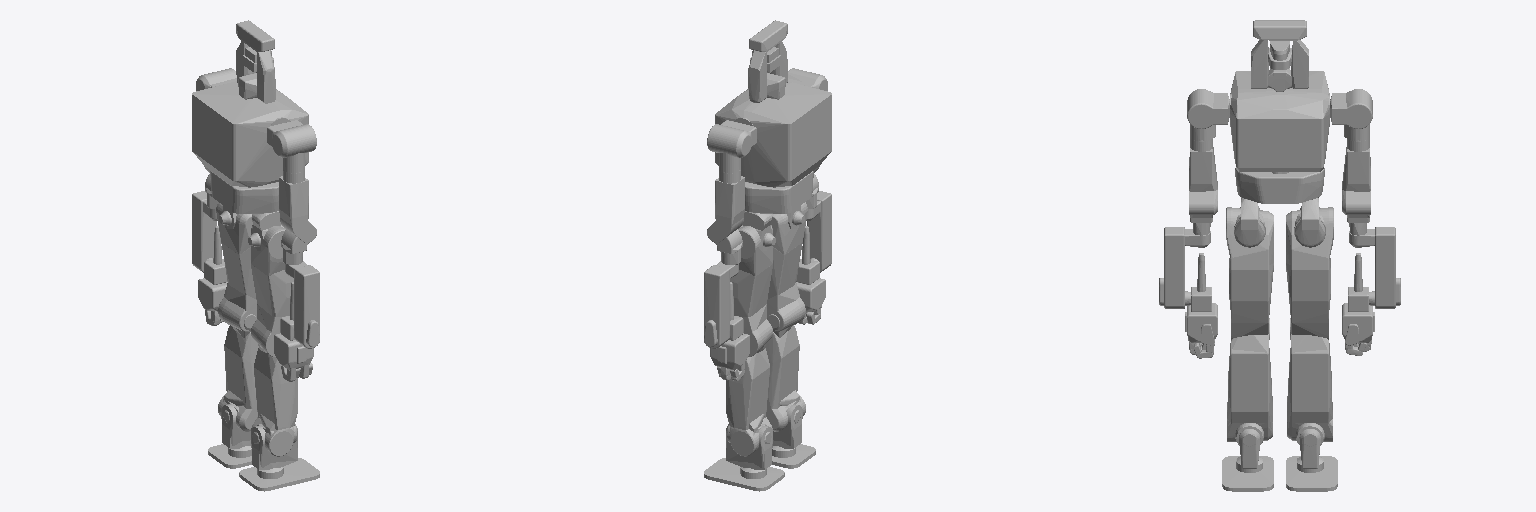
--- What the picture shows (computed from the rendered views, not written in the file) ---
Views: 3 orthographic renders of the robot side by side, from view 1: azimuth 30°, elevation 25°; view 2: azimuth 150°, elevation 25°; view 3: azimuth 270°, elevation 25°.
Robot: drchubo-v3 — 56 links, 55 joints (51 revolute, 4 fixed); root link Body_Torso; default pose: every joint at zero.
Visible links, largest first — view 1: Body_Torso, Body_RHP, Body_LHP, Body_RKP, Body_LKP, Body_RAR, Body_RWY, Body_NK2, Body_RSY, Body_TSY, Body_LAR, Body_LWY (+7 smaller); view 2: Body_Torso, Body_LHP, Body_RHP, Body_LKP, Body_RKP, Body_LAR, Body_LWY, Body_NK2, Body_LSY, Body_TSY, Body_RAR, Body_RWY (+7 smaller); view 3: Body_Torso, Body_RHP, Body_LHP, Body_RKP, Body_LKP, Body_NK2, Body_TSY, Body_RAR, Body_LAR, Body_RWY, Body_LWY, Body_RSY (+10 smaller).
Link boxes in pixels (<box>): Body_Torso: <box>192,81,308,187</box>; Body_RHP: <box>251,225,293,356</box>; Body_LHP: <box>216,202,256,331</box>; Body_RKP: <box>251,344,297,456</box>; Body_LKP: <box>218,314,258,431</box>; Body_RAR: <box>239,424,319,491</box>; Body_RWY: <box>285,261,319,348</box>; Body_NK2: <box>236,20,275,103</box>; Body_RSY: <box>279,170,316,242</box>; Body_TSY: <box>210,171,278,213</box>; Body_LAR: <box>208,404,251,468</box>; Body_LWY: <box>192,191,217,272</box>; Body_Torso: <box>715,81,831,187</box>; Body_LHP: <box>730,225,772,356</box>; Body_RHP: <box>767,202,807,331</box>; Body_LKP: <box>726,344,772,456</box>; Body_RKP: <box>765,314,805,431</box>; Body_LAR: <box>704,424,784,491</box>; Body_LWY: <box>704,261,738,348</box>; Body_NK2: <box>748,20,787,102</box>; Body_LSY: <box>707,170,744,242</box>; Body_TSY: <box>745,171,813,213</box>; Body_RAR: <box>772,404,815,468</box>; Body_RWY: <box>806,191,831,272</box>; Body_Torso: <box>1230,71,1329,173</box>; Body_RHP: <box>1226,207,1273,339</box>; Body_LHP: <box>1286,207,1333,339</box>; Body_RKP: <box>1227,318,1272,441</box>; Body_LKP: <box>1287,318,1332,441</box>; Body_NK2: <box>1251,20,1308,88</box>; Body_TSY: <box>1235,168,1324,203</box>; Body_RAR: <box>1222,429,1273,491</box>; Body_LAR: <box>1286,429,1337,491</box>; Body_RWY: <box>1159,227,1210,308</box>; Body_LWY: <box>1349,227,1400,308</box>; Body_RSY: <box>1189,138,1217,214</box>.
Size in the robot's own frame: 0.291 by 0.707 by 1.45 metres.
Meshes: 37 distinct files referenced, 52 mesh visuals loaded (37 binary STL).

The robot description file, URDF, robot "drchubo-v3":
<?xml version="1.0" ?>
<robot name="drchubo-v3">
    <link name="Body_Torso">
        <visual>
            <geometry>
                <mesh filename="meshes/convhull_Torso_merged.stl"/>
            </geometry>
            <origin rpy="0 0 0" xyz="0 0 0"/>
            <material name="">
                <color rgba="0.752941176471 0.752941176471 0.752941176471 1.0"/>
            </material>
        </visual>
        <collision>
            <geometry>
                <mesh filename="meshes/convhull_Torso_merged.stl"/>
            </geometry>
            <origin rpy="0 0 0" xyz="0 0 0"/>
        </collision>
        <inertial>
            <mass value="12.0205278528"/>
            <inertia ixx="0.139304186385" ixy="3.94986545913e-06" ixz="-0.00823717402835" iyy="0.103349048038" iyz="-5.51332752869e-06" izz="0.138503173371"/>
            <origin rpy="0 0 0" xyz="-0.00653576137697 2.64726276972e-05 -0.0481158946001"/>
        </inertial>
    </link>
    <link name="Body_TSY">
        <visual>
            <geometry>
                <mesh filename="meshes/convhull_TSY_merged.stl"/>
            </geometry>
            <origin rpy="0 0 0" xyz="0 0 0"/>
            <material name="">
                <color rgba="0.752941176471 0.752941176471 0.752941176471 1.0"/>
            </material>
        </visual>
        <collision>
            <geometry>
                <mesh filename="meshes/convhull_TSY_merged.stl"/>
            </geometry>
            <origin rpy="0 0 0" xyz="0 0 0"/>
        </collision>
        <inertial>
            <mass value="4.83018847366"/>
            <inertia ixx="0.0242710547439" ixy="4.03308627246e-06" ixz="0.000107562017398" iyy="0.0103772739035" iyz="1.38922193141e-06" izz="0.0286360929382"/>
            <origin rpy="0 0 0" xyz="-0.0172313454531 7.7473414697e-06 -0.032639940662"/>
        </inertial>
    </link>
    <joint name="WST" type="revolute">
        <parent link="Body_Torso"/>
        <child link="Body_TSY"/>
        <origin rpy="0 0 0" xyz="-0.00099991 0 -0.2061"/>
        <axis xyz="0 0 1.0"/>
        <limit effort="25" lower="-1.06813521904" upper="1.06814778541" velocity="6.28318530718"/>
    </joint>
    <link name="Body_RHY">
        <visual>
            <geometry>
                <mesh filename="meshes/convhull_RHY_merged.stl"/>
            </geometry>
            <origin rpy="0 0 0" xyz="0 0 0"/>
            <material name="">
                <color rgba="0.752941176471 0.752941176471 0.752941176471 1.0"/>
            </material>
        </visual>
        <collision>
            <geometry>
                <mesh filename="meshes/convhull_RHY_merged.stl"/>
            </geometry>
            <origin rpy="0 0 0" xyz="0 0 0"/>
        </collision>
        <inertial>
            <mass value="1.39676631505"/>
            <inertia ixx="0.00288796936083" ixy="9.31467192308e-07" ixz="-0.00107856005839" iyy="0.00475787075044" iyz="-1.27885368145e-06" izz="0.0030062595856"/>
            <origin rpy="0 0 0" xyz="0.0357455188333 -9.87014023897e-06 -0.0612768789732"/>
        </inertial>
    </link>
    <joint name="RHY" type="revolute">
        <parent link="Body_TSY"/>
        <child link="Body_RHY"/>
        <origin rpy="0 0 0" xyz="0 -0.0885 -0.0751"/>
        <axis xyz="0 0 1.0"/>
        <limit effort="25" lower="-2.38760413354" upper="1.57080260998" velocity="6.28318530718"/>
    </joint>
    <link name="Body_RHR">
        <visual>
            <geometry>
                <mesh filename="meshes/convhull_RHR_merged.stl"/>
            </geometry>
            <origin rpy="0 0 0" xyz="0 0 0"/>
            <material name="">
                <color rgba="0.752941176471 0.752941176471 0.752941176471 1.0"/>
            </material>
        </visual>
        <collision>
            <geometry>
                <mesh filename="meshes/convhull_RHR_merged.stl"/>
            </geometry>
            <origin rpy="0 0 0" xyz="0 0 0"/>
        </collision>
        <inertial>
            <mass value="1.87327014692"/>
            <inertia ixx="0.00271708242471" ixy="6.95355289452e-06" ixz="-0.000124506400405" iyy="0.00314352531524" iyz="-0.000179044888416" izz="0.00241624814317"/>
            <origin rpy="0 0 0" xyz="-0.0546751887964 0.000755923439321 -0.0250478918092"/>
        </inertial>
    </link>
    <joint name="RHR" type="revolute">
        <parent link="Body_RHY"/>
        <child link="Body_RHR"/>
        <origin rpy="0 0 0" xyz="0.052 0 -0.091"/>
        <axis xyz="1.0 0 0"/>
        <limit effort="25" lower="-0.559132890873" upper="0.372760437767" velocity="6.28318530718"/>
    </joint>
    <link name="Body_RHP">
        <visual>
            <geometry>
                <mesh filename="meshes/convhull_RHP_merged.stl"/>
            </geometry>
            <origin rpy="0 0 0" xyz="0 0 0"/>
            <material name="">
                <color rgba="0.752941176471 0.752941176471 0.752941176471 1.0"/>
            </material>
        </visual>
        <collision>
            <geometry>
                <mesh filename="meshes/convhull_RHP_merged.stl"/>
            </geometry>
            <origin rpy="0 0 0" xyz="0 0 0"/>
        </collision>
        <inertial>
            <mass value="4.08210586511"/>
            <inertia ixx="0.0731344926009" ixy="0.000774522574823" ixz="-0.00133507444321" iyy="0.0704116135206" iyz="-0.0038008172567" izz="0.0104352186397"/>
            <origin rpy="0 0 0" xyz="0.014307872736 0.0329553894437 -0.191508079337"/>
        </inertial>
    </link>
    <joint name="RHP" type="revolute">
        <parent link="Body_RHR"/>
        <child link="Body_RHP"/>
        <origin rpy="0 0 0" xyz="-0.052 -0.0445 0"/>
        <axis xyz="0 1.0 0"/>
        <limit effort="25" lower="-1.88157052607" upper="1.57418139288" velocity="6.28318530718"/>
    </joint>
    <link name="Body_RKP">
        <visual>
            <geometry>
                <mesh filename="meshes/convhull_RKP_merged.stl"/>
            </geometry>
            <origin rpy="0 0 0" xyz="0 0 0"/>
            <material name="">
                <color rgba="0.75294 0.75294 0.75294 1.0"/>
            </material>
        </visual>
        <collision>
            <geometry>
                <mesh filename="meshes/convhull_RKP_merged.stl"/>
            </geometry>
            <origin rpy="0 0 0" xyz="0 0 0"/>
        </collision>
        <inertial>
            <mass value="1.5575"/>
            <inertia ixx="0.023902" ixy="-0.00016341" ixz="0.0003317" iyy="0.021931" iyz="-0.00047965" izz="0.0043485"/>
            <origin rpy="0 0 0" xyz="0.015377 0.023243 -0.16683"/>
        </inertial>
    </link>
    <joint name="RKN" type="revolute">
        <parent link="Body_RHP"/>
        <child link="Body_RKP"/>
        <origin rpy="0 0 0" xyz="0 0.0285 -0.33"/>
        <axis xyz="0 1.0 0"/>
        <limit effort="25" lower="-0.765758104224" upper="2.70570177799" velocity="6.28318530718"/>
    </joint>
    <link name="Body_RAP">
        <visual>
            <geometry>
                <mesh filename="meshes/convhull_RAP_merged.stl"/>
            </geometry>
            <origin rpy="0 0 0" xyz="0 0 0"/>
            <material name="">
                <color rgba="0.752941176471 0.752941176471 0.752941176471 1.0"/>
            </material>
        </visual>
        <collision>
            <geometry>
                <mesh filename="meshes/convhull_RAP_merged.stl"/>
            </geometry>
            <origin rpy="0 0 0" xyz="0 0 0"/>
        </collision>
        <inertial>
            <mass value="2.28752729358"/>
            <inertia ixx="0.00372279383771" ixy="0.000408405026298" ixz="-0.000324861356781" iyy="0.00395779600552" iyz="0.000345535189408" izz="0.00437930917038"/>
            <origin rpy="0 0 0" xyz="0.015517139691 0.0515086693793 0.00905289185767"/>
        </inertial>
    </link>
    <joint name="RAP" type="revolute">
        <parent link="Body_RKP"/>
        <child link="Body_RAP"/>
        <origin rpy="0 0 0" xyz="0 -0.047 -0.33"/>
        <axis xyz="0 1.0 0"/>
        <limit effort="25" lower="-1.64354304628" upper="2.25203184417" velocity="6.28318530718"/>
    </joint>
    <link name="Body_RAR">
        <visual>
            <geometry>
                <mesh filename="meshes/convhull_RAR_merged.stl"/>
            </geometry>
            <origin rpy="0 0 0" xyz="0 0 0"/>
            <material name="">
                <color rgba="0.75294 0.75294 0.75294 1.0"/>
            </material>
        </visual>
        <collision>
            <geometry>
                <mesh filename="meshes/convhull_RAR_merged.stl"/>
            </geometry>
            <origin rpy="0 0 0" xyz="0 0 0"/>
        </collision>
        <inertial>
            <mass value="1.173"/>
            <inertia ixx="0.0040657" ixy="-3.062e-05" ixz="-0.0002436" iyy="0.0066321" iyz="0.00010311" izz="0.00448"/>
            <origin rpy="0 0 0" xyz="-0.053052 -0.0019082 -0.093274"/>
        </inertial>
    </link>
    <joint name="RAR" type="revolute">
        <parent link="Body_RAP"/>
        <child link="Body_RAR"/>
        <origin rpy="0 0 0" xyz="0.0705 0.063 0"/>
        <axis xyz="1.0 0 0"/>
        <limit effort="25" lower="-1.73952924336" upper="1.73953918356" velocity="6.28318530718"/>
    </joint>
    <link name="rightFoot">
        <inertial>
            <mass value="0.1"/>
            <inertia ixx="0.0001" ixy="0" ixz="0" iyy="0.0001" iyz="0" izz="0.0001"/>
            <origin rpy="0 0 0" xyz="0 0 0"/>
        </inertial>
    </link>
    <joint name="RAR_dummy" type="fixed">
        <parent link="Body_RAR"/>
        <child link="rightFoot"/>
        <origin rpy="0 0 0" xyz="0 0 -0.1371"/>
    </joint>
    <link name="Body_RSP">
        <visual>
            <geometry>
                <mesh filename="meshes/convhull_RSP_merged.stl"/>
            </geometry>
            <origin rpy="0 0 0" xyz="0 0 0"/>
            <material name="">
                <color rgba="0.752941176471 0.752941176471 0.752941176471 1.0"/>
            </material>
        </visual>
        <collision>
            <geometry>
                <mesh filename="meshes/convhull_RSP_merged.stl"/>
            </geometry>
            <origin rpy="0 0 0" xyz="0 0 0"/>
        </collision>
        <inertial>
            <mass value="0.925752239669"/>
            <inertia ixx="0.00168445461162" ixy="-0.000340206078138" ixz="-6.31660338214e-06" iyy="0.00157378126325" iyz="7.95927300515e-06" izz="0.00244770101015"/>
            <origin rpy="0 0 0" xyz="0.0211206130677 -0.0669651647046 0.000177534129465"/>
        </inertial>
    </link>
    <joint name="RSP" type="revolute">
        <parent link="Body_Torso"/>
        <child link="Body_RSP"/>
        <origin rpy="0 0 0" xyz="0 -0.1435 0"/>
        <axis xyz="0 1.0 0"/>
        <limit effort="25" lower="-3.81023666761" upper="3.72958570101" velocity="6.28318530718"/>
    </joint>
    <link name="Body_RSR">
        <visual>
            <geometry>
                <mesh filename="meshes/convhull_RSR_merged.stl"/>
            </geometry>
            <origin rpy="0 0 0" xyz="0 0 0"/>
            <material name="">
                <color rgba="0.752941176471 0.752941176471 0.752941176471 1.0"/>
            </material>
        </visual>
        <collision>
            <geometry>
                <mesh filename="meshes/convhull_RSR_merged.stl"/>
            </geometry>
            <origin rpy="0 0 0" xyz="0 0 0"/>
        </collision>
        <inertial>
            <mass value="0.772866145701"/>
            <inertia ixx="0.000583426982031" ixy="8.46801592608e-07" ixz="-3.33711094992e-05" iyy="0.000797704704735" iyz="-1.1857891966e-05" izz="0.000561294586058"/>
            <origin rpy="0 0 0" xyz="-0.0375650279693 0.000356075210703 -0.0117791110906"/>
        </inertial>
    </link>
    <joint name="RSR" type="revolute">
        <parent link="Body_RSP"/>
        <child link="Body_RSR"/>
        <origin rpy="0 0 0" xyz="0.033 -0.086 0"/>
        <axis xyz="1.0 0 0"/>
        <limit effort="25" lower="-3.1404773882" upper="0.62943379611" velocity="6.28318530718"/>
    </joint>
    <link name="Body_RSY">
        <visual>
            <geometry>
                <mesh filename="meshes/convhull_RSY_merged.stl"/>
            </geometry>
            <origin rpy="0 0 0" xyz="0 0 0"/>
            <material name="">
                <color rgba="0.752941176471 0.752941176471 0.752941176471 1.0"/>
            </material>
        </visual>
        <collision>
            <geometry>
                <mesh filename="meshes/convhull_RSY_merged.stl"/>
            </geometry>
            <origin rpy="0 0 0" xyz="0 0 0"/>
        </collision>
        <inertial>
            <mass value="2.05731646102"/>
            <inertia ixx="0.0223084392611" ixy="2.50613568022e-05" ixz="-0.00188493824891" iyy="0.0224224037845" iyz="-0.000332193108806" izz="0.00158588979968"/>
            <origin rpy="0 0 0" xyz="0.00919437021309 0.00191434175871 -0.169537229579"/>
        </inertial>
    </link>
    <joint name="RSY" type="revolute">
        <parent link="Body_RSR"/>
        <child link="Body_RSY"/>
        <origin rpy="0 0 0" xyz="-0.033 0 -0.027"/>
        <axis xyz="0 0 1.0"/>
        <limit effort="25" lower="-2.9161362568" upper="2.88010218907" velocity="6.28318530718"/>
    </joint>
    <link name="Body_REP">
        <visual>
            <geometry>
                <mesh filename="meshes/convhull_REP_merged.stl"/>
            </geometry>
            <origin rpy="0 0 0" xyz="0 0 0"/>
            <material name="">
                <color rgba="0.752941176471 0.752941176471 0.752941176471 1.0"/>
            </material>
        </visual>
        <collision>
            <geometry>
                <mesh filename="meshes/convhull_REP_merged.stl"/>
            </geometry>
            <origin rpy="0 0 0" xyz="0 0 0"/>
        </collision>
        <inertial>
            <mass value="0.298170328162"/>
            <inertia ixx="0.000394363251821" ixy="1.34384975568e-06" ixz="7.57996574577e-05" iyy="0.000374815280261" iyz="-2.18982902478e-06" izz="0.000273941918371"/>
            <origin rpy="0 0 0" xyz="-0.0244460480201 0.0182798518231 -0.0396913386769"/>
        </inertial>
    </link>
    <joint name="REB" type="revolute">
        <parent link="Body_RSY"/>
        <child link="Body_REP"/>
        <origin rpy="0 0 0" xyz="0.03 -0.019 -0.273"/>
        <axis xyz="0 1.0 0"/>
        <limit effort="25" lower="-2.31515743615" upper="0.692917529657" velocity="6.28318530718"/>
    </joint>
    <link name="Body_RWY">
        <visual>
            <geometry>
                <mesh filename="meshes/convhull_RWY_merged.stl"/>
            </geometry>
            <origin rpy="0 0 0" xyz="0 0 0"/>
            <material name="">
                <color rgba="0.752941176471 0.752941176471 0.752941176471 1.0"/>
            </material>
        </visual>
        <collision>
            <geometry>
                <mesh filename="meshes/convhull_RWY_merged.stl"/>
            </geometry>
            <origin rpy="0 0 0" xyz="0 0 0"/>
        </collision>
        <inertial>
            <mass value="1.68933309958"/>
            <inertia ixx="0.0176540649275" ixy="3.61034488579e-06" ixz="8.37319577754e-06" iyy="0.0150234017716" iyz="0.00516603192566" izz="0.00331146614296"/>
            <origin rpy="0 0 0" xyz="3.39374071556e-05 -0.0559979630014 -0.151262292453"/>
        </inertial>
    </link>
    <joint name="RWY" type="revolute">
        <parent link="Body_REP"/>
        <child link="Body_RWY"/>
        <origin rpy="0 0 0" xyz="-0.03 0.019 -0.052"/>
        <axis xyz="0 0 1.0"/>
        <limit effort="25" lower="-2.76130286287" upper="2.86214798705" velocity="6.28318530718"/>
    </joint>
    <link name="Body_RWP">
        <visual>
            <geometry>
                <mesh filename="meshes/convhull_RWP_merged.stl"/>
            </geometry>
            <origin rpy="0 0 0" xyz="0 0 0"/>
            <material name="">
                <color rgba="0.752941176471 0.752941176471 0.752941176471 1.0"/>
            </material>
        </visual>
        <collision>
            <geometry>
                <mesh filename="meshes/convhull_RWP_merged.stl"/>
            </geometry>
            <origin rpy="0 0 0" xyz="0 0 0"/>
        </collision>
        <inertial>
            <mass value="0.327632198289"/>
            <inertia ixx="0.000346968656319" ixy="-5.89262498623e-05" ixz="4.30826482069e-06" iyy="0.00057562979027" iyz="1.25504736046e-06" izz="0.000744124634836"/>
            <origin rpy="0 0 0" xyz="-0.0145320131223 0.0546994779181 -0.000367800192129"/>
        </inertial>
    </link>
    <joint name="RWP" type="revolute">
        <parent link="Body_RWY"/>
        <child link="Body_RWP"/>
        <origin rpy="0 1.57079632679 0" xyz="0 -0.067 -0.2618"/>
        <axis xyz="0 1.0 0"/>
        <limit effort="25" lower="-3.29029994185" upper="2.11323942233" velocity="6.28318530718"/>
    </joint>
    <link name="Body_RWR">
        <visual>
            <geometry>
                <mesh filename="meshes/convhull_RWR_merged.stl"/>
            </geometry>
            <origin rpy="0 0 0" xyz="0 0 0"/>
            <material name="">
                <color rgba="0.752941176471 0.752941176471 0.752941176471 1.0"/>
            </material>
        </visual>
        <collision>
            <geometry>
                <mesh filename="meshes/convhull_RWR_merged.stl"/>
            </geometry>
            <origin rpy="0 0 0" xyz="0 0 0"/>
        </collision>
        <inertial>
            <mass value="1.26227162553"/>
            <inertia ixx="0.00137019038629" ixy="-6.08173568367e-05" ixz="5.84193124812e-06" iyy="0.00133077281236" iyz="1.17164831963e-05" izz="0.00120357514264"/>
            <origin rpy="0 0 0" xyz="0.0461316332402 0.000476271776753 0.0008021254173"/>
        </inertial>
    </link>
    <joint name="RWR" type="revolute">
        <parent link="Body_RWP"/>
        <child link="Body_RWR"/>
        <origin rpy="0 0 0" xyz="0.027 0.067 0"/>
        <axis xyz="1.0 0 0"/>
        <limit effort="25" lower="-2.69195220504" upper="2.70766016831" velocity="6.28318530718"/>
    </joint>
    <link name="rightPalm">
        <inertial>
            <mass value="0.1"/>
            <inertia ixx="0.0001" ixy="0" ixz="0" iyy="0.0001" iyz="0" izz="0.0001"/>
            <origin rpy="0 0 0" xyz="0 0 0"/>
        </inertial>
    </link>
    <joint name="RWR_dummy" type="fixed">
        <parent link="Body_RWR"/>
        <child link="rightPalm"/>
        <origin rpy="0 0 -1.57079632679" xyz="0.1 0 0"/>
    </joint>
    <link name="Body_NK1">
        <visual>
            <geometry>
                <mesh filename="meshes/convhull_NK1_merged.stl"/>
            </geometry>
            <origin rpy="0 0 0" xyz="0 0 0"/>
            <material name="">
                <color rgba="0.75294 0.75294 0.75294 1.0"/>
            </material>
        </visual>
        <collision>
            <geometry>
                <mesh filename="meshes/convhull_NK1_merged.stl"/>
            </geometry>
            <origin rpy="0 0 0" xyz="0 0 0"/>
        </collision>
        <inertial>
            <mass value="0.18123"/>
            <inertia ixx="0.0001082" ixy="0" ixz="-2.1626e-06" iyy="0.00011192" iyz="-1.3008e-09" izz="0.00011594"/>
            <origin rpy="0 0 0" xyz="-0.013163 1.7706e-06 0.036774"/>
        </inertial>
    </link>
    <joint name="NKY" type="revolute">
        <parent link="Body_Torso"/>
        <child link="Body_NK1"/>
        <origin rpy="0 0 0" xyz="0 -1.0274e-05 0.0585"/>
        <axis xyz="0 0 1.0"/>
        <limit effort="25" lower="-3.14159265359" upper="3.14159265359" velocity="6.28318530718"/>
    </joint>
    <link name="Body_NK2">
        <visual>
            <geometry>
                <mesh filename="meshes/convhull_NK2_merged.stl"/>
            </geometry>
            <origin rpy="0 0 0" xyz="0 0 0"/>
            <material name="">
                <color rgba="0.75294 0.75294 0.75294 1.0"/>
            </material>
        </visual>
        <collision>
            <geometry>
                <mesh filename="meshes/convhull_NK2_merged.stl"/>
            </geometry>
            <origin rpy="0 0 0" xyz="0 0 0"/>
        </collision>
        <inertial>
            <mass value="0.67971"/>
            <inertia ixx="0.0048072" ixy="-7.0061e-07" ixz="-2.0605e-05" iyy="0.0030587" iyz="-6.6145e-05" izz="0.0019744"/>
            <origin rpy="0 0 0" xyz="-0.00051569 -0.035537 0.11073"/>
        </inertial>
    </link>
    <joint name="NK1" type="revolute">
        <parent link="Body_NK1"/>
        <child link="Body_NK2"/>
        <origin rpy="0 0 0" xyz="0 0.0355 0.025"/>
        <axis xyz="0 1.0 0"/>
        <limit effort="25" lower="-3.14159265359" upper="3.14159265359" velocity="6.28318530718"/>
    </joint>
    <link name="Body_NK3">
        <visual>
            <geometry>
                <mesh filename="meshes/convhull_NK3_merged.stl"/>
            </geometry>
            <origin rpy="0 0 0" xyz="0 0 0"/>
            <material name="">
                <color rgba="0.752941176471 0.752941176471 0.752941176471 1.0"/>
            </material>
        </visual>
        <collision>
            <geometry>
                <mesh filename="meshes/convhull_NK3_merged.stl"/>
            </geometry>
            <origin rpy="0 0 0" xyz="0 0 0"/>
        </collision>
        <inertial>
            <mass value="0.255818051941"/>
            <inertia ixx="0.000150249696711" ixy="0" ixz="-3.69168280443e-06" iyy="0.000195009281185" iyz="0" izz="0.000211950785433"/>
            <origin rpy="0 0 0" xyz="0.00860436308107 0.0354999996644 0.00609890405742"/>
        </inertial>
    </link>
    <joint name="NK2" type="revolute">
        <parent link="Body_NK2"/>
        <child link="Body_NK3"/>
        <origin rpy="0 0 0" xyz="0 -0.071 0.086"/>
        <axis xyz="0 1.0 0"/>
        <limit effort="25" lower="-3.14159265359" upper="3.14159265359" velocity="6.28318530718"/>
    </joint>
    <link name="Body_RF41">
        <visual>
            <geometry>
                <mesh filename="meshes/convhull_RF11.stl"/>
            </geometry>
            <origin rpy="0 0 0" xyz="0 0 0"/>
            <material name="">
                <color rgba="0.752941176471 0.752941176471 0.752941176471 1.0"/>
            </material>
        </visual>
        <collision>
            <geometry>
                <mesh filename="meshes/convhull_RF11.stl"/>
            </geometry>
            <origin rpy="0 0 0" xyz="0 0 0"/>
        </collision>
        <inertial>
            <mass value="0.0263710561485"/>
            <inertia ixx="1.98396452599e-06" ixy="3.66951887147e-08" ixz="-7.82216984076e-08" iyy="6.90160003554e-06" iyz="-5.52885002718e-09" izz="6.59611728997e-06"/>
            <origin rpy="0 0 0" xyz="0.0136755315275 0.0001676659415 0.000198749354248"/>
        </inertial>
    </link>
    <joint name="RF2" type="revolute">
        <parent link="Body_RWR"/>
        <child link="Body_RF41"/>
        <origin rpy="-1.5708 0 0" xyz="0.0875 0.026 0.0445"/>
        <axis xyz="0 0 -1.0"/>
        <limit effort="25" lower="-1.91728423726" upper="0" velocity="6.28318530718"/>
    </joint>
    <link name="Body_RF42">
        <visual>
            <geometry>
                <mesh filename="meshes/convhull_RF12_merged.stl"/>
            </geometry>
            <origin rpy="0 0 0" xyz="0 0 0"/>
            <material name="">
                <color rgba="0.752941176471 0.752941176471 0.752941176471 1.0"/>
            </material>
        </visual>
        <collision>
            <geometry>
                <mesh filename="meshes/convhull_RF12_merged.stl"/>
            </geometry>
            <origin rpy="0 0 0" xyz="0 0 0"/>
        </collision>
        <inertial>
            <mass value="0.016189368249"/>
            <inertia ixx="1.30911370818e-06" ixy="1.49423602565e-08" ixz="-5.01486524729e-08" iyy="2.82043860524e-06" iyz="-2.8629444527e-09" izz="3.05888536891e-06"/>
            <origin rpy="0 0 0" xyz="0.0110393059886 0.000234060880175 5.56986057552e-05"/>
        </inertial>
    </link>
    <joint name="RF42" type="revolute">
        <parent link="Body_RF41"/>
        <child link="Body_RF42"/>
        <origin rpy="0 1.3963 0" xyz="0.041952 0 -0.002"/>
        <axis xyz="0 1.0 0"/>
        <limit effort="25" lower="-3.14159265359" upper="3.14159265359" velocity="6.28318530718"/>
    </joint>
    <link name="Body_RF43">
        <visual>
            <geometry>
                <mesh filename="meshes/convhull_RF13_merged.stl"/>
            </geometry>
            <origin rpy="0 0 0" xyz="0 0 0"/>
            <material name="">
                <color rgba="0.752941176471 0.752941176471 0.752941176471 1.0"/>
            </material>
        </visual>
        <collision>
            <geometry>
                <mesh filename="meshes/convhull_RF13_merged.stl"/>
            </geometry>
            <origin rpy="0 0 0" xyz="0 0 0"/>
        </collision>
        <inertial>
            <mass value="0.0182221650877"/>
            <inertia ixx="1.03181617487e-06" ixy="-4.94978359879e-08" ixz="-1.22492186704e-07" iyy="2.57254536616e-06" iyz="-5.58418574878e-09" izz="2.54656084717e-06"/>
            <origin rpy="0 0 0" xyz="0.0171497739791 -0.000431859131656 0.000224831410368"/>
        </inertial>
    </link>
    <joint name="RF43" type="revolute">
        <parent link="Body_RF42"/>
        <child link="Body_RF43"/>
        <origin rpy="0 1.3963 0" xyz="0.029967 0 -0.0014"/>
        <axis xyz="0 1.0 0"/>
        <limit effort="25" lower="-3.14159265359" upper="3.14159265359" velocity="6.28318530718"/>
    </joint>
    <link name="Body_RF11">
        <visual>
            <geometry>
                <mesh filename="meshes/convhull_RF11.stl"/>
            </geometry>
            <origin rpy="0 0 0" xyz="0 0 0"/>
            <material name="">
                <color rgba="0.752941176471 0.752941176471 0.752941176471 1.0"/>
            </material>
        </visual>
        <collision>
            <geometry>
                <mesh filename="meshes/convhull_RF11.stl"/>
            </geometry>
            <origin rpy="0 0 0" xyz="0 0 0"/>
        </collision>
        <inertial>
            <mass value="0.0263710648328"/>
            <inertia ixx="1.98396439062e-06" ixy="3.66951330319e-08" ixz="-7.82216813087e-08" iyy="6.90160086478e-06" iyz="-5.52885566501e-09" izz="6.59611827284e-06"/>
            <origin rpy="0 0 0" xyz="0.013675535045 0.000167665760228 0.000198749511991"/>
        </inertial>
    </link>
    <joint name="RF1" type="revolute">
        <parent link="Body_RWR"/>
        <child link="Body_RF11"/>
        <origin rpy="1.5708 0 0" xyz="0.0875 -0.026 0.02247"/>
        <axis xyz="0 0 1.0"/>
        <limit effort="25" lower="-1.85349620283" upper="0.2" velocity="6.28318530718"/>
    </joint>
    <link name="Body_RF12">
        <visual>
            <geometry>
                <mesh filename="meshes/convhull_RF12_merged.stl"/>
            </geometry>
            <origin rpy="0 0 0" xyz="0 0 0"/>
            <material name="">
                <color rgba="0.752941176471 0.752941176471 0.752941176471 1.0"/>
            </material>
        </visual>
        <collision>
            <geometry>
                <mesh filename="meshes/convhull_RF12_merged.stl"/>
            </geometry>
            <origin rpy="0 0 0" xyz="0 0 0"/>
        </collision>
        <inertial>
            <mass value="0.016189368249"/>
            <inertia ixx="1.30911370818e-06" ixy="1.49423602565e-08" ixz="-5.01486524729e-08" iyy="2.82043860524e-06" iyz="-2.8629444527e-09" izz="3.05888536891e-06"/>
            <origin rpy="0 0 0" xyz="0.0110393059886 0.000234060880175 5.56986057553e-05"/>
        </inertial>
    </link>
    <joint name="RF12" type="revolute">
        <parent link="Body_RF11"/>
        <child link="Body_RF12"/>
        <origin rpy="0 1.3963 0" xyz="0.041952 0 -0.002"/>
        <axis xyz="0 1.0 0"/>
        <limit effort="25" lower="-3.14159265359" upper="3.14159265359" velocity="6.28318530718"/>
    </joint>
    <link name="Body_RF13">
        <visual>
            <geometry>
                <mesh filename="meshes/convhull_RF13_merged.stl"/>
            </geometry>
            <origin rpy="0 0 0" xyz="0 0 0"/>
            <material name="">
                <color rgba="0.752941176471 0.752941176471 0.752941176471 1.0"/>
            </material>
        </visual>
        <collision>
            <geometry>
                <mesh filename="meshes/convhull_RF13_merged.stl"/>
            </geometry>
            <origin rpy="0 0 0" xyz="0 0 0"/>
        </collision>
        <inertial>
            <mass value="0.0182221650877"/>
            <inertia ixx="1.03181617487e-06" ixy="-4.94978359879e-08" ixz="-1.22492186704e-07" iyy="2.57254536616e-06" iyz="-5.58418574879e-09" izz="2.54656084717e-06"/>
            <origin rpy="0 0 0" xyz="0.0171497739791 -0.000431859131656 0.000224831410368"/>
        </inertial>
    </link>
    <joint name="RF13" type="revolute">
        <parent link="Body_RF12"/>
        <child link="Body_RF13"/>
        <origin rpy="0 1.3963 0" xyz="0.029967 0 -0.0014"/>
        <axis xyz="0 1.0 0"/>
        <limit effort="25" lower="-3.14159265359" upper="3.14159265359" velocity="6.28318530718"/>
    </joint>
    <link name="Body_RF21">
        <visual>
            <geometry>
                <mesh filename="meshes/convhull_RF11.stl"/>
            </geometry>
            <origin rpy="0 0 0" xyz="0 0 0"/>
            <material name="">
                <color rgba="0.752941176471 0.752941176471 0.752941176471 1.0"/>
            </material>
        </visual>
        <collision>
            <geometry>
                <mesh filename="meshes/convhull_RF11.stl"/>
            </geometry>
            <origin rpy="0 0 0" xyz="0 0 0"/>
        </collision>
        <inertial>
            <mass value="0.0263710648328"/>
            <inertia ixx="1.98396439062e-06" ixy="3.66951330319e-08" ixz="-7.82216813087e-08" iyy="6.90160086478e-06" iyz="-5.52885566501e-09" izz="6.59611827284e-06"/>
            <origin rpy="0 0 0" xyz="0.013675535045 0.000167665760228 0.000198749511991"/>
        </inertial>
    </link>
    <joint name="RF21" type="revolute">
        <parent link="Body_RWR"/>
        <child link="Body_RF21"/>
        <origin rpy="-1.5708 0 0" xyz="0.0875 0.026 3e-05"/>
        <axis xyz="0 0 -1.0"/>
        <limit effort="25" lower="-3.14159265359" upper="3.14159265359" velocity="6.28318530718"/>
    </joint>
    <link name="Body_RF22">
        <visual>
            <geometry>
                <mesh filename="meshes/convhull_RF12_merged.stl"/>
            </geometry>
            <origin rpy="0 0 0" xyz="0 0 0"/>
            <material name="">
                <color rgba="0.752941176471 0.752941176471 0.752941176471 1.0"/>
            </material>
        </visual>
        <collision>
            <geometry>
                <mesh filename="meshes/convhull_RF12_merged.stl"/>
            </geometry>
            <origin rpy="0 0 0" xyz="0 0 0"/>
        </collision>
        <inertial>
            <mass value="0.016189368249"/>
            <inertia ixx="1.30911370818e-06" ixy="1.49423602565e-08" ixz="-5.01486524729e-08" iyy="2.82043860524e-06" iyz="-2.8629444527e-09" izz="3.05888536891e-06"/>
            <origin rpy="0 0 0" xyz="0.0110393059886 0.000234060880175 5.56986057552e-05"/>
        </inertial>
    </link>
    <joint name="RF22" type="revolute">
        <parent link="Body_RF21"/>
        <child link="Body_RF22"/>
        <origin rpy="0 1.3963 0" xyz="0.041952 0 -0.002"/>
        <axis xyz="0 1.0 0"/>
        <limit effort="25" lower="-3.14159265359" upper="3.14159265359" velocity="6.28318530718"/>
    </joint>
    <link name="Body_RF23">
        <visual>
            <geometry>
                <mesh filename="meshes/convhull_RF13_merged.stl"/>
            </geometry>
            <origin rpy="0 0 0" xyz="0 0 0"/>
            <material name="">
                <color rgba="0.752941176471 0.752941176471 0.752941176471 1.0"/>
            </material>
        </visual>
        <collision>
            <geometry>
                <mesh filename="meshes/convhull_RF13_merged.stl"/>
            </geometry>
            <origin rpy="0 0 0" xyz="0 0 0"/>
        </collision>
        <inertial>
            <mass value="0.0182221650877"/>
            <inertia ixx="1.03181617487e-06" ixy="-4.94978359879e-08" ixz="-1.22492186704e-07" iyy="2.57254536616e-06" iyz="-5.58418574878e-09" izz="2.54656084717e-06"/>
            <origin rpy="0 0 0" xyz="0.0171497739791 -0.000431859131656 0.000224831410368"/>
        </inertial>
    </link>
    <joint name="RF23" type="revolute">
        <parent link="Body_RF22"/>
        <child link="Body_RF23"/>
        <origin rpy="0 1.3963 0" xyz="0.029967 0 -0.0014"/>
        <axis xyz="0 1.0 0"/>
        <limit effort="25" lower="-3.14159265359" upper="3.14159265359" velocity="6.28318530718"/>
    </joint>
    <link name="Body_RF31">
        <visual>
            <geometry>
                <mesh filename="meshes/convhull_RF11.stl"/>
            </geometry>
            <origin rpy="0 0 0" xyz="0 0 0"/>
            <material name="">
                <color rgba="0.752941176471 0.752941176471 0.752941176471 1.0"/>
            </material>
        </visual>
        <collision>
            <geometry>
                <mesh filename="meshes/convhull_RF11.stl"/>
            </geometry>
            <origin rpy="0 0 0" xyz="0 0 0"/>
        </collision>
        <inertial>
            <mass value="0.0263710648328"/>
            <inertia ixx="1.98396439062e-06" ixy="3.66951330319e-08" ixz="-7.82216813087e-08" iyy="6.90160086478e-06" iyz="-5.52885566502e-09" izz="6.59611827284e-06"/>
            <origin rpy="0 0 0" xyz="0.013675535045 0.000167665760228 0.000198749511991"/>
        </inertial>
    </link>
    <joint name="RF31" type="revolute">
        <parent link="Body_RWR"/>
        <child link="Body_RF31"/>
        <origin rpy="1.5708 0 0" xyz="0.0875 -0.026 -0.02247"/>
        <axis xyz="0 0 1.0"/>
        <limit effort="25" lower="-3.14159265359" upper="3.14159265359" velocity="6.28318530718"/>
    </joint>
    <link name="Body_RF32">
        <visual>
            <geometry>
                <mesh filename="meshes/convhull_RF12_merged.stl"/>
            </geometry>
            <origin rpy="0 0 0" xyz="0 0 0"/>
            <material name="">
                <color rgba="0.752941176471 0.752941176471 0.752941176471 1.0"/>
            </material>
        </visual>
        <collision>
            <geometry>
                <mesh filename="meshes/convhull_RF12_merged.stl"/>
            </geometry>
            <origin rpy="0 0 0" xyz="0 0 0"/>
        </collision>
        <inertial>
            <mass value="0.016189368249"/>
            <inertia ixx="1.30911370818e-06" ixy="1.49423602565e-08" ixz="-5.01486524729e-08" iyy="2.82043860524e-06" iyz="-2.8629444527e-09" izz="3.05888536891e-06"/>
            <origin rpy="0 0 0" xyz="0.0110393059886 0.000234060880175 5.56986057552e-05"/>
        </inertial>
    </link>
    <joint name="RF32" type="revolute">
        <parent link="Body_RF31"/>
        <child link="Body_RF32"/>
        <origin rpy="0 1.3963 0" xyz="0.041952 0 -0.002"/>
        <axis xyz="0 1.0 0"/>
        <limit effort="25" lower="-3.14159265359" upper="3.14159265359" velocity="6.28318530718"/>
    </joint>
    <link name="Body_RF33">
        <visual>
            <geometry>
                <mesh filename="meshes/convhull_RF13_merged.stl"/>
            </geometry>
            <origin rpy="0 0 0" xyz="0 0 0"/>
            <material name="">
                <color rgba="0.752941176471 0.752941176471 0.752941176471 1.0"/>
            </material>
        </visual>
        <collision>
            <geometry>
                <mesh filename="meshes/convhull_RF13_merged.stl"/>
            </geometry>
            <origin rpy="0 0 0" xyz="0 0 0"/>
        </collision>
        <inertial>
            <mass value="0.0182221650877"/>
            <inertia ixx="1.03181617487e-06" ixy="-4.94978359879e-08" ixz="-1.22492186704e-07" iyy="2.57254536616e-06" iyz="-5.58418574879e-09" izz="2.54656084717e-06"/>
            <origin rpy="0 0 0" xyz="0.0171497739791 -0.000431859131656 0.000224831410368"/>
        </inertial>
    </link>
    <joint name="RF33" type="revolute">
        <parent link="Body_RF32"/>
        <child link="Body_RF33"/>
        <origin rpy="0 1.3963 0" xyz="0.029967 0 -0.0014"/>
        <axis xyz="0 1.0 0"/>
        <limit effort="25" lower="-3.14159265359" upper="3.14159265359" velocity="6.28318530718"/>
    </joint>
    <link name="Body_LSP">
        <visual>
            <geometry>
                <mesh filename="meshes/convhull_LSP_merged.stl"/>
            </geometry>
            <origin rpy="0 0 0" xyz="0 0 0"/>
            <material name="">
                <color rgba="0.752941176471 0.752941176471 0.752941176471 1.0"/>
            </material>
        </visual>
        <collision>
            <geometry>
                <mesh filename="meshes/convhull_LSP_merged.stl"/>
            </geometry>
            <origin rpy="0 0 0" xyz="0 0 0"/>
        </collision>
        <inertial>
            <mass value="0.925752239669"/>
            <inertia ixx="0.00168445461162" ixy="0.000340206078138" ixz="-6.31660338214e-06" iyy="0.00157378126325" iyz="-7.95927300515e-06" izz="0.00244770101015"/>
            <origin rpy="0 0 0" xyz="0.0211206130677 0.0669651647046 0.000177534129465"/>
        </inertial>
    </link>
    <link name="Body_LSR">
        <visual>
            <geometry>
                <mesh filename="meshes/convhull_LSR_merged.stl"/>
            </geometry>
            <origin rpy="0 0 0" xyz="0 0 0"/>
            <material name="">
                <color rgba="0.752941176471 0.752941176471 0.752941176471 1.0"/>
            </material>
        </visual>
        <collision>
            <geometry>
                <mesh filename="meshes/convhull_LSR_merged.stl"/>
            </geometry>
            <origin rpy="0 0 0" xyz="0 0 0"/>
        </collision>
        <inertial>
            <mass value="0.772866145701"/>
            <inertia ixx="0.000583426982031" ixy="-8.46801592608e-07" ixz="-3.33711094992e-05" iyy="0.000797704704735" iyz="1.1857891966e-05" izz="0.000561294586058"/>
            <origin rpy="0 0 0" xyz="-0.0375650279693 -0.000356075210703 -0.0117791110906"/>
        </inertial>
    </link>
    <link name="Body_LSY">
        <visual>
            <geometry>
                <mesh filename="meshes/convhull_LSY_merged.stl"/>
            </geometry>
            <origin rpy="0 0 0" xyz="0 0 0"/>
            <material name="">
                <color rgba="0.752941176471 0.752941176471 0.752941176471 1.0"/>
            </material>
        </visual>
        <collision>
            <geometry>
                <mesh filename="meshes/convhull_LSY_merged.stl"/>
            </geometry>
            <origin rpy="0 0 0" xyz="0 0 0"/>
        </collision>
        <inertial>
            <mass value="2.05731646102"/>
            <inertia ixx="0.0223084392611" ixy="-2.50613568022e-05" ixz="-0.00188493824891" iyy="0.0224224037845" iyz="0.000332193108806" izz="0.00158588979968"/>
            <origin rpy="0 0 0" xyz="0.00919437021309 -0.00191434175871 -0.169537229579"/>
        </inertial>
    </link>
    <link name="Body_LEP">
        <visual>
            <geometry>
                <mesh filename="meshes/convhull_LEP_merged.stl"/>
            </geometry>
            <origin rpy="0 0 0" xyz="0 0 0"/>
            <material name="">
                <color rgba="0.752941176471 0.752941176471 0.752941176471 1.0"/>
            </material>
        </visual>
        <collision>
            <geometry>
                <mesh filename="meshes/convhull_LEP_merged.stl"/>
            </geometry>
            <origin rpy="0 0 0" xyz="0 0 0"/>
        </collision>
        <inertial>
            <mass value="0.298170328162"/>
            <inertia ixx="0.000394363251821" ixy="-1.34384975568e-06" ixz="7.57996574577e-05" iyy="0.000374815280261" iyz="2.18982902478e-06" izz="0.000273941918371"/>
            <origin rpy="0 0 0" xyz="-0.0244460480201 -0.0182798518231 -0.0396913386769"/>
        </inertial>
    </link>
    <link name="Body_LWY">
        <visual>
            <geometry>
                <mesh filename="meshes/convhull_LWY_merged.stl"/>
            </geometry>
            <origin rpy="0 0 0" xyz="0 0 0"/>
            <material name="">
                <color rgba="0.752941176471 0.752941176471 0.752941176471 1.0"/>
            </material>
        </visual>
        <collision>
            <geometry>
                <mesh filename="meshes/convhull_LWY_merged.stl"/>
            </geometry>
            <origin rpy="0 0 0" xyz="0 0 0"/>
        </collision>
        <inertial>
            <mass value="1.68933309958"/>
            <inertia ixx="0.0176540649275" ixy="-3.61034488579e-06" ixz="8.37319577754e-06" iyy="0.0150234017716" iyz="-0.00516603192566" izz="0.00331146614296"/>
            <origin rpy="0 0 0" xyz="3.39374071556e-05 0.0559979630014 -0.151262292453"/>
        </inertial>
    </link>
    <link name="Body_LWP">
        <visual>
            <geometry>
                <mesh filename="meshes/convhull_LWP_merged.stl"/>
            </geometry>
            <origin rpy="0 0 0" xyz="0 0 0"/>
            <material name="">
                <color rgba="0.752941176471 0.752941176471 0.752941176471 1.0"/>
            </material>
        </visual>
        <collision>
            <geometry>
                <mesh filename="meshes/convhull_LWP_merged.stl"/>
            </geometry>
            <origin rpy="0 0 0" xyz="0 0 0"/>
        </collision>
        <inertial>
            <mass value="0.327632198289"/>
            <inertia ixx="0.000346968656319" ixy="5.89262498623e-05" ixz="4.30826482069e-06" iyy="0.00057562979027" iyz="-1.25504736046e-06" izz="0.000744124634836"/>
            <origin rpy="0 0 0" xyz="-0.0145320131223 -0.0546994779181 -0.000367800192129"/>
        </inertial>
    </link>
    <link name="Body_LWR">
        <visual>
            <geometry>
                <mesh filename="meshes/convhull_LWR_merged.stl"/>
            </geometry>
            <origin rpy="0 0 0" xyz="0 0 0"/>
            <material name="">
                <color rgba="0.752941176471 0.752941176471 0.752941176471 1.0"/>
            </material>
        </visual>
        <collision>
            <geometry>
                <mesh filename="meshes/convhull_LWR_merged.stl"/>
            </geometry>
            <origin rpy="0 0 0" xyz="0 0 0"/>
        </collision>
        <inertial>
            <mass value="1.26227162553"/>
            <inertia ixx="0.00137019038629" ixy="6.08173568367e-05" ixz="5.84193124812e-06" iyy="0.00133077281236" iyz="-1.17164831963e-05" izz="0.00120357514264"/>
            <origin rpy="0 0 0" xyz="0.0461316332402 -0.000476271776753 0.0008021254173"/>
        </inertial>
    </link>
    <link name="leftPalm">
        <inertial>
            <mass value="0.1"/>
            <inertia ixx="0.0001" ixy="0" ixz="0" iyy="0.0001" iyz="0" izz="0.0001"/>
            <origin rpy="0 0 0" xyz="0 0 0"/>
        </inertial>
    </link>
    <joint name="LSP" type="revolute">
        <parent link="Body_Torso"/>
        <child link="Body_LSP"/>
        <origin rpy="0 0 0" xyz="0 0.1435 0"/>
        <axis xyz="0 1.0 0"/>
        <limit effort="25" lower="-3.7843248114" upper="3.75549755721" velocity="6.28318530718"/>
    </joint>
    <joint name="LSR" type="revolute">
        <parent link="Body_LSP"/>
        <child link="Body_LSR"/>
        <origin rpy="0 0 0" xyz="0.033 0.086 0"/>
        <axis xyz="1.0 0 0"/>
        <limit effort="25" lower="-0.61813977052" upper="3.15177141379" velocity="6.28318530718"/>
    </joint>
    <joint name="LSY" type="revolute">
        <parent link="Body_LSR"/>
        <child link="Body_LSY"/>
        <origin rpy="0 0 0" xyz="-0.033 0 -0.027"/>
        <axis xyz="0 0 1.0"/>
        <limit effort="25" lower="-2.90646015143" upper="2.90548625771" velocity="6.28318530718"/>
    </joint>
    <joint name="LEB" type="revolute">
        <parent link="Body_LSY"/>
        <child link="Body_LEP"/>
        <origin rpy="0 0 0" xyz="0.03 0.019 -0.273"/>
        <axis xyz="0 1.0 0"/>
        <limit effort="25" lower="-2.32516340876" upper="0.682911557056" velocity="6.28318530718"/>
    </joint>
    <joint name="LWY" type="revolute">
        <parent link="Body_LEP"/>
        <child link="Body_LWY"/>
        <origin rpy="0 0 0" xyz="-0.03 -0.019 -0.052"/>
        <axis xyz="0 0 1.0"/>
        <limit effort="25" lower="-2.8506654659" upper="2.77278538402" velocity="6.28318530718"/>
    </joint>
    <joint name="LWP" type="revolute">
        <parent link="Body_LWY"/>
        <child link="Body_LWP"/>
        <origin rpy="0 1.57079632679 0" xyz="0 0.067 -0.2618"/>
        <axis xyz="0 1.0 0"/>
        <limit effort="25" lower="-3.28246952216" upper="2.13677780528" velocity="6.28318530718"/>
    </joint>
    <joint name="LWR" type="revolute">
        <parent link="Body_LWP"/>
        <child link="Body_LWR"/>
        <origin rpy="0 0 0" xyz="0.027 -0.067 0"/>
        <axis xyz="1.0 0 0"/>
        <limit effort="25" lower="-2.69956074975" upper="2.7000516236" velocity="6.28318530718"/>
    </joint>
    <joint name="LWR_dummy" type="fixed">
        <parent link="Body_LWR"/>
        <child link="leftPalm"/>
        <origin rpy="0 0 1.57079632679" xyz="0.1 0 0"/>
    </joint>
    <link name="Body_LHY">
        <visual>
            <geometry>
                <mesh filename="meshes/convhull_LHY_merged.stl"/>
            </geometry>
            <origin rpy="0 0 0" xyz="0 0 0"/>
            <material name="">
                <color rgba="0.752941176471 0.752941176471 0.752941176471 1.0"/>
            </material>
        </visual>
        <collision>
            <geometry>
                <mesh filename="meshes/convhull_LHY_merged.stl"/>
            </geometry>
            <origin rpy="0 0 0" xyz="0 0 0"/>
        </collision>
        <inertial>
            <mass value="1.39676631505"/>
            <inertia ixx="0.00288796936083" ixy="-9.31467192308e-07" ixz="-0.00107856005839" iyy="0.00475787075044" iyz="1.27885368145e-06" izz="0.0030062595856"/>
            <origin rpy="0 0 0" xyz="0.0357455188333 9.87014023897e-06 -0.0612768789732"/>
        </inertial>
    </link>
    <link name="Body_LHR">
        <visual>
            <geometry>
                <mesh filename="meshes/convhull_LHR_merged.stl"/>
            </geometry>
            <origin rpy="0 0 0" xyz="0 0 0"/>
            <material name="">
                <color rgba="0.752941176471 0.752941176471 0.752941176471 1.0"/>
            </material>
        </visual>
        <collision>
            <geometry>
                <mesh filename="meshes/convhull_LHR_merged.stl"/>
            </geometry>
            <origin rpy="0 0 0" xyz="0 0 0"/>
        </collision>
        <inertial>
            <mass value="1.87327014692"/>
            <inertia ixx="0.00271708242471" ixy="-6.95355289452e-06" ixz="-0.000124506400405" iyy="0.00314352531524" iyz="0.000179044888416" izz="0.00241624814317"/>
            <origin rpy="0 0 0" xyz="-0.0546751887964 -0.000755923439321 -0.0250478918092"/>
        </inertial>
    </link>
    <link name="Body_LHP">
        <visual>
            <geometry>
                <mesh filename="meshes/convhull_LHP_merged.stl"/>
            </geometry>
            <origin rpy="0 0 0" xyz="0 0 0"/>
            <material name="">
                <color rgba="0.752941176471 0.752941176471 0.752941176471 1.0"/>
            </material>
        </visual>
        <collision>
            <geometry>
                <mesh filename="meshes/convhull_LHP_merged.stl"/>
            </geometry>
            <origin rpy="0 0 0" xyz="0 0 0"/>
        </collision>
        <inertial>
            <mass value="4.08210586511"/>
            <inertia ixx="0.0731344926009" ixy="-0.000774522574823" ixz="-0.00133507444321" iyy="0.0704116135206" iyz="0.0038008172567" izz="0.0104352186397"/>
            <origin rpy="0 0 0" xyz="0.014307872736 -0.0329553894437 -0.191508079337"/>
        </inertial>
    </link>
    <link name="Body_LKP">
        <visual>
            <geometry>
                <mesh filename="meshes/convhull_LKP_merged.stl"/>
            </geometry>
            <origin rpy="0 0 0" xyz="0 0 0"/>
            <material name="">
                <color rgba="0.75294 0.75294 0.75294 1.0"/>
            </material>
        </visual>
        <collision>
            <geometry>
                <mesh filename="meshes/convhull_LKP_merged.stl"/>
            </geometry>
            <origin rpy="0 0 0" xyz="0 0 0"/>
        </collision>
        <inertial>
            <mass value="1.5575"/>
            <inertia ixx="0.023902" ixy="0.00016341" ixz="0.0003317" iyy="0.021931" iyz="0.00047965" izz="0.0043485"/>
            <origin rpy="0 0 0" xyz="0.015377 -0.023243 -0.16683"/>
        </inertial>
    </link>
    <link name="Body_LAP">
        <visual>
            <geometry>
                <mesh filename="meshes/convhull_LAP_merged.stl"/>
            </geometry>
            <origin rpy="0 0 0" xyz="0 0 0"/>
            <material name="">
                <color rgba="0.752941176471 0.752941176471 0.752941176471 1.0"/>
            </material>
        </visual>
        <collision>
            <geometry>
                <mesh filename="meshes/convhull_LAP_merged.stl"/>
            </geometry>
            <origin rpy="0 0 0" xyz="0 0 0"/>
        </collision>
        <inertial>
            <mass value="2.28752729358"/>
            <inertia ixx="0.00372279383771" ixy="-0.000408405026298" ixz="-0.000324861356781" iyy="0.00395779600552" iyz="-0.000345535189408" izz="0.00437930917038"/>
            <origin rpy="0 0 0" xyz="0.015517139691 -0.0515086693793 0.00905289185767"/>
        </inertial>
    </link>
    <link name="Body_LAR">
        <visual>
            <geometry>
                <mesh filename="meshes/convhull_LAR_merged.stl"/>
            </geometry>
            <origin rpy="0 0 0" xyz="0 0 0"/>
            <material name="">
                <color rgba="0.75294 0.75294 0.75294 1.0"/>
            </material>
        </visual>
        <collision>
            <geometry>
                <mesh filename="meshes/convhull_LAR_merged.stl"/>
            </geometry>
            <origin rpy="0 0 0" xyz="0 0 0"/>
        </collision>
        <inertial>
            <mass value="1.173"/>
            <inertia ixx="0.0040657" ixy="3.062e-05" ixz="-0.0002436" iyy="0.0066321" iyz="-0.00010311" izz="0.00448"/>
            <origin rpy="0 0 0" xyz="-0.053052 0.0019082 -0.093274"/>
        </inertial>
    </link>
    <link name="leftFoot">
        <inertial>
            <mass value="0.1"/>
            <inertia ixx="0.0001" ixy="0" ixz="0" iyy="0.0001" iyz="0" izz="0.0001"/>
            <origin rpy="0 0 0" xyz="0 0 0"/>
        </inertial>
    </link>
    <joint name="LHY" type="revolute">
        <parent link="Body_TSY"/>
        <child link="Body_LHY"/>
        <origin rpy="0 0 0" xyz="0 0.0885 -0.0751"/>
        <axis xyz="0 0 1.0"/>
        <limit effort="25" lower="-1.57079004361" upper="2.38761669991" velocity="6.28318530718"/>
    </joint>
    <joint name="LHR" type="revolute">
        <parent link="Body_LHY"/>
        <child link="Body_LHR"/>
        <origin rpy="0 0 0" xyz="0.052 0 -0.091"/>
        <axis xyz="1.0 0 0"/>
        <limit effort="25" lower="-0.372754225145" upper="0.559139103495" velocity="6.28318530718"/>
    </joint>
    <joint name="LHP" type="revolute">
        <parent link="Body_LHR"/>
        <child link="Body_LHP"/>
        <origin rpy="0 0 0" xyz="-0.052 0.0445 0"/>
        <axis xyz="0 1.0 0"/>
        <limit effort="25" lower="-1.85507119204" upper="1.60068072691" velocity="6.28318530718"/>
    </joint>
    <joint name="LKN" type="revolute">
        <parent link="Body_LHP"/>
        <child link="Body_LKP"/>
        <origin rpy="0 0 0" xyz="0 -0.0285 -0.33"/>
        <axis xyz="0 1.0 0"/>
        <limit effort="25" lower="-0.765758104224" upper="2.70570177799" velocity="6.28318530718"/>
    </joint>
    <joint name="LAP" type="revolute">
        <parent link="Body_LKP"/>
        <child link="Body_LAP"/>
        <origin rpy="0 0 0" xyz="0 0.047 -0.33"/>
        <axis xyz="0 1.0 0"/>
        <limit effort="25" lower="-1.64333570117" upper="2.25223918929" velocity="6.28318530718"/>
    </joint>
    <joint name="LAR" type="revolute">
        <parent link="Body_LAP"/>
        <child link="Body_LAR"/>
        <origin rpy="0 0 0" xyz="0.0705 -0.063 0"/>
        <axis xyz="1.0 0 0"/>
        <limit effort="25" lower="-1.73952924336" upper="1.73953918356" velocity="6.28318530718"/>
    </joint>
    <joint name="LAR_dummy" type="fixed">
        <parent link="Body_LAR"/>
        <child link="leftFoot"/>
        <origin rpy="0 0 0" xyz="0 0 -0.1371"/>
    </joint>
    <link name="Body_LF11">
        <visual>
            <geometry>
                <mesh filename="meshes/convhull_LF11.stl"/>
            </geometry>
            <origin rpy="0 0 0" xyz="0 0 0"/>
            <material name="">
                <color rgba="0.752941176471 0.752941176471 0.752941176471 1.0"/>
            </material>
        </visual>
        <collision>
            <geometry>
                <mesh filename="meshes/convhull_LF11.stl"/>
            </geometry>
            <origin rpy="0 0 0" xyz="0 0 0"/>
        </collision>
        <inertial>
            <mass value="0.0263710648328"/>
            <inertia ixx="1.98396439062e-06" ixy="3.66951330319e-08" ixz="7.82216813087e-08" iyy="6.90160086478e-06" iyz="5.52885566501e-09" izz="6.59611827284e-06"/>
            <origin rpy="0 0 0" xyz="0.013675535045 0.000167665760228 -0.000198749511991"/>
        </inertial>
    </link>
    <link name="Body_LF12">
        <visual>
            <geometry>
                <mesh filename="meshes/convhull_LF12_merged.stl"/>
            </geometry>
            <origin rpy="0 0 0" xyz="0 0 0"/>
            <material name="">
                <color rgba="0.752941176471 0.752941176471 0.752941176471 1.0"/>
            </material>
        </visual>
        <collision>
            <geometry>
                <mesh filename="meshes/convhull_LF12_merged.stl"/>
            </geometry>
            <origin rpy="0 0 0" xyz="0 0 0"/>
        </collision>
        <inertial>
            <mass value="0.016189368249"/>
            <inertia ixx="1.30911370818e-06" ixy="1.49423602565e-08" ixz="5.01486524729e-08" iyy="2.82043860524e-06" iyz="2.8629444527e-09" izz="3.05888536891e-06"/>
            <origin rpy="0 0 0" xyz="0.0110393059886 0.000234060880175 -5.56986057553e-05"/>
        </inertial>
    </link>
    <link name="Body_LF13">
        <visual>
            <geometry>
                <mesh filename="meshes/convhull_LF13_merged.stl"/>
            </geometry>
            <origin rpy="0 0 0" xyz="0 0 0"/>
            <material name="">
                <color rgba="0.752941176471 0.752941176471 0.752941176471 1.0"/>
            </material>
        </visual>
        <collision>
            <geometry>
                <mesh filename="meshes/convhull_LF13_merged.stl"/>
            </geometry>
            <origin rpy="0 0 0" xyz="0 0 0"/>
        </collision>
        <inertial>
            <mass value="0.0182221650877"/>
            <inertia ixx="1.03181617487e-06" ixy="-4.94978359879e-08" ixz="1.22492186704e-07" iyy="2.57254536616e-06" iyz="5.58418574879e-09" izz="2.54656084717e-06"/>
            <origin rpy="0 0 0" xyz="0.0171497739791 -0.000431859131656 -0.000224831410368"/>
        </inertial>
    </link>
    <joint name="LF1" type="revolute">
        <parent link="Body_LWR"/>
        <child link="Body_LF11"/>
        <origin rpy="-1.5708 0 0" xyz="0.0875 -0.026 -0.02247"/>
        <axis xyz="0 0 -1.0"/>
        <limit effort="25" lower="-1.85349620283" upper="0.2" velocity="6.28318530718"/>
    </joint>
    <joint name="LF12" type="revolute">
        <parent link="Body_LF11"/>
        <child link="Body_LF12"/>
        <origin rpy="0 -1.3963 0" xyz="0.041952 0 0.002"/>
        <axis xyz="0 1.0 0"/>
        <limit effort="25" lower="-3.14159265359" upper="3.14159265359" velocity="6.28318530718"/>
    </joint>
    <joint name="LF13" type="revolute">
        <parent link="Body_LF12"/>
        <child link="Body_LF13"/>
        <origin rpy="0 -1.3963 0" xyz="0.029967 0 0.0014"/>
        <axis xyz="0 1.0 0"/>
        <limit effort="25" lower="-3.14159265359" upper="3.14159265359" velocity="6.28318530718"/>
    </joint>
    <link name="Body_LF21">
        <visual>
            <geometry>
                <mesh filename="meshes/convhull_LF11.stl"/>
            </geometry>
            <origin rpy="0 0 0" xyz="0 0 0"/>
            <material name="">
                <color rgba="0.752941176471 0.752941176471 0.752941176471 1.0"/>
            </material>
        </visual>
        <collision>
            <geometry>
                <mesh filename="meshes/convhull_LF11.stl"/>
            </geometry>
            <origin rpy="0 0 0" xyz="0 0 0"/>
        </collision>
        <inertial>
            <mass value="0.0263710648328"/>
            <inertia ixx="1.98396439062e-06" ixy="3.66951330319e-08" ixz="7.82216813087e-08" iyy="6.90160086478e-06" iyz="5.52885566501e-09" izz="6.59611827284e-06"/>
            <origin rpy="0 0 0" xyz="0.013675535045 0.000167665760228 -0.000198749511991"/>
        </inertial>
    </link>
    <link name="Body_LF22">
        <visual>
            <geometry>
                <mesh filename="meshes/convhull_LF12_merged.stl"/>
            </geometry>
            <origin rpy="0 0 0" xyz="0 0 0"/>
            <material name="">
                <color rgba="0.752941176471 0.752941176471 0.752941176471 1.0"/>
            </material>
        </visual>
        <collision>
            <geometry>
                <mesh filename="meshes/convhull_LF12_merged.stl"/>
            </geometry>
            <origin rpy="0 0 0" xyz="0 0 0"/>
        </collision>
        <inertial>
            <mass value="0.016189368249"/>
            <inertia ixx="1.30911370818e-06" ixy="1.49423602565e-08" ixz="5.01486524729e-08" iyy="2.82043860524e-06" iyz="2.8629444527e-09" izz="3.05888536891e-06"/>
            <origin rpy="0 0 0" xyz="0.0110393059886 0.000234060880175 -5.56986057552e-05"/>
        </inertial>
    </link>
    <link name="Body_LF23">
        <visual>
            <geometry>
                <mesh filename="meshes/convhull_LF13_merged.stl"/>
            </geometry>
            <origin rpy="0 0 0" xyz="0 0 0"/>
            <material name="">
                <color rgba="0.752941176471 0.752941176471 0.752941176471 1.0"/>
            </material>
        </visual>
        <collision>
            <geometry>
                <mesh filename="meshes/convhull_LF13_merged.stl"/>
            </geometry>
            <origin rpy="0 0 0" xyz="0 0 0"/>
        </collision>
        <inertial>
            <mass value="0.0182221650877"/>
            <inertia ixx="1.03181617487e-06" ixy="-4.94978359879e-08" ixz="1.22492186704e-07" iyy="2.57254536616e-06" iyz="5.58418574878e-09" izz="2.54656084717e-06"/>
            <origin rpy="0 0 0" xyz="0.0171497739791 -0.000431859131656 -0.000224831410368"/>
        </inertial>
    </link>
    <joint name="LF21" type="revolute">
        <parent link="Body_LWR"/>
        <child link="Body_LF21"/>
        <origin rpy="1.5708 0 0" xyz="0.0875 0.026 -3e-05"/>
        <axis xyz="0 0 1.0"/>
        <limit effort="25" lower="-3.14159265359" upper="3.14159265359" velocity="6.28318530718"/>
    </joint>
    <joint name="LF22" type="revolute">
        <parent link="Body_LF21"/>
        <child link="Body_LF22"/>
        <origin rpy="0 -1.3963 0" xyz="0.041952 0 0.002"/>
        <axis xyz="0 1.0 0"/>
        <limit effort="25" lower="-3.14159265359" upper="3.14159265359" velocity="6.28318530718"/>
    </joint>
    <joint name="LF23" type="revolute">
        <parent link="Body_LF22"/>
        <child link="Body_LF23"/>
        <origin rpy="0 -1.3963 0" xyz="0.029967 0 0.0014"/>
        <axis xyz="0 1.0 0"/>
        <limit effort="25" lower="-3.14159265359" upper="3.14159265359" velocity="6.28318530718"/>
    </joint>
    <link name="Body_LF31">
        <visual>
            <geometry>
                <mesh filename="meshes/convhull_LF11.stl"/>
            </geometry>
            <origin rpy="0 0 0" xyz="0 0 0"/>
            <material name="">
                <color rgba="0.752941176471 0.752941176471 0.752941176471 1.0"/>
            </material>
        </visual>
        <collision>
            <geometry>
                <mesh filename="meshes/convhull_LF11.stl"/>
            </geometry>
            <origin rpy="0 0 0" xyz="0 0 0"/>
        </collision>
        <inertial>
            <mass value="0.0263710648328"/>
            <inertia ixx="1.98396439062e-06" ixy="3.66951330319e-08" ixz="7.82216813087e-08" iyy="6.90160086478e-06" iyz="5.52885566502e-09" izz="6.59611827284e-06"/>
            <origin rpy="0 0 0" xyz="0.013675535045 0.000167665760228 -0.000198749511991"/>
        </inertial>
    </link>
    <link name="Body_LF32">
        <visual>
            <geometry>
                <mesh filename="meshes/convhull_LF12_merged.stl"/>
            </geometry>
            <origin rpy="0 0 0" xyz="0 0 0"/>
            <material name="">
                <color rgba="0.752941176471 0.752941176471 0.752941176471 1.0"/>
            </material>
        </visual>
        <collision>
            <geometry>
                <mesh filename="meshes/convhull_LF12_merged.stl"/>
            </geometry>
            <origin rpy="0 0 0" xyz="0 0 0"/>
        </collision>
        <inertial>
            <mass value="0.016189368249"/>
            <inertia ixx="1.30911370818e-06" ixy="1.49423602565e-08" ixz="5.01486524729e-08" iyy="2.82043860524e-06" iyz="2.8629444527e-09" izz="3.05888536891e-06"/>
            <origin rpy="0 0 0" xyz="0.0110393059886 0.000234060880175 -5.56986057552e-05"/>
        </inertial>
    </link>
    <link name="Body_LF33">
        <visual>
            <geometry>
                <mesh filename="meshes/convhull_LF13_merged.stl"/>
            </geometry>
            <origin rpy="0 0 0" xyz="0 0 0"/>
            <material name="">
                <color rgba="0.752941176471 0.752941176471 0.752941176471 1.0"/>
            </material>
        </visual>
        <collision>
            <geometry>
                <mesh filename="meshes/convhull_LF13_merged.stl"/>
            </geometry>
            <origin rpy="0 0 0" xyz="0 0 0"/>
        </collision>
        <inertial>
            <mass value="0.0182221650877"/>
            <inertia ixx="1.03181617487e-06" ixy="-4.94978359879e-08" ixz="1.22492186704e-07" iyy="2.57254536616e-06" iyz="5.58418574879e-09" izz="2.54656084717e-06"/>
            <origin rpy="0 0 0" xyz="0.0171497739791 -0.000431859131656 -0.000224831410368"/>
        </inertial>
    </link>
    <joint name="LF31" type="revolute">
        <parent link="Body_LWR"/>
        <child link="Body_LF31"/>
        <origin rpy="-1.5708 0 0" xyz="0.0875 -0.026 0.02247"/>
        <axis xyz="0 0 -1.0"/>
        <limit effort="25" lower="-3.14159265359" upper="3.14159265359" velocity="6.28318530718"/>
    </joint>
    <joint name="LF32" type="revolute">
        <parent link="Body_LF31"/>
        <child link="Body_LF32"/>
        <origin rpy="0 -1.3963 0" xyz="0.041952 0 0.002"/>
        <axis xyz="0 1.0 0"/>
        <limit effort="25" lower="-3.14159265359" upper="3.14159265359" velocity="6.28318530718"/>
    </joint>
    <joint name="LF33" type="revolute">
        <parent link="Body_LF32"/>
        <child link="Body_LF33"/>
        <origin rpy="0 -1.3963 0" xyz="0.029967 0 0.0014"/>
        <axis xyz="0 1.0 0"/>
        <limit effort="25" lower="-3.14159265359" upper="3.14159265359" velocity="6.28318530718"/>
    </joint>
</robot>
